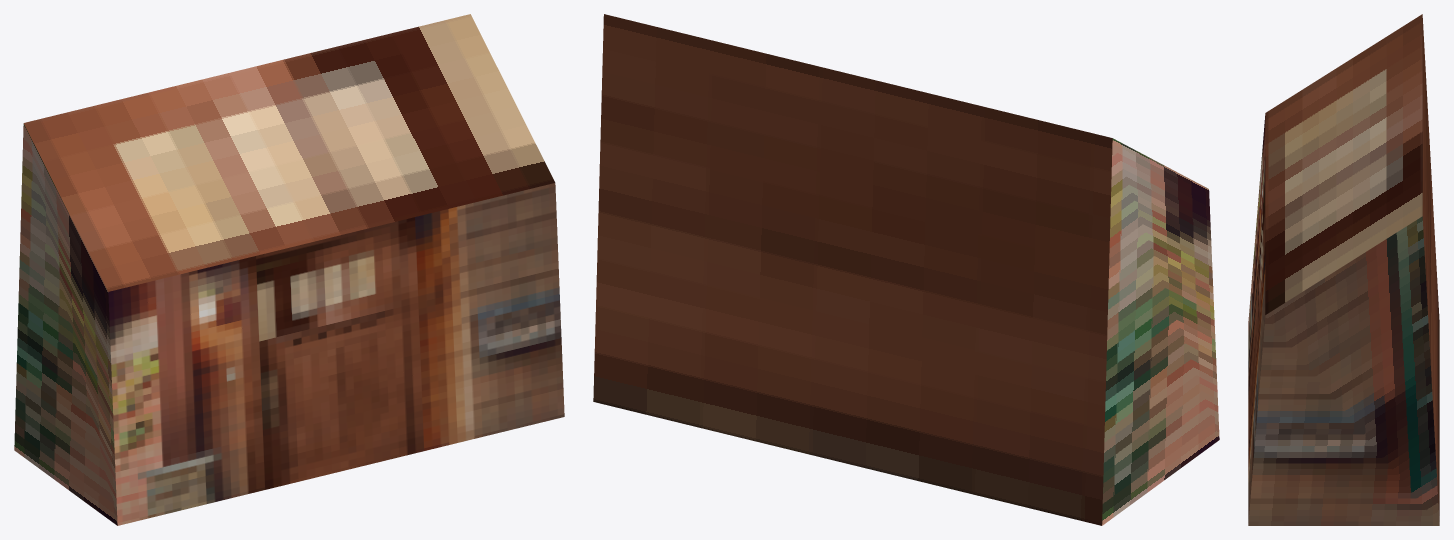
Rendered from casa5.glb.
The picture shows the model from 3 angles, left to right: view 1: azimuth 30°, elevation 25°; view 2: azimuth 150°, elevation 25°; view 3: azimuth 270°, elevation 25°; orthographic projection. The views are drawn at different scales.
Visible parts, largest first — view 1: Cube; view 2: Cube; view 3: Cube.
Boxes of the visible parts, x1,y1,x2,y2 form: Cube: (14, 14, 564, 525); Cube: (593, 14, 1219, 525); Cube: (1248, 14, 1439, 525).
Bounding box in the file's own units: 5 × 3.57 × 2.
1 material, 1 textured.
